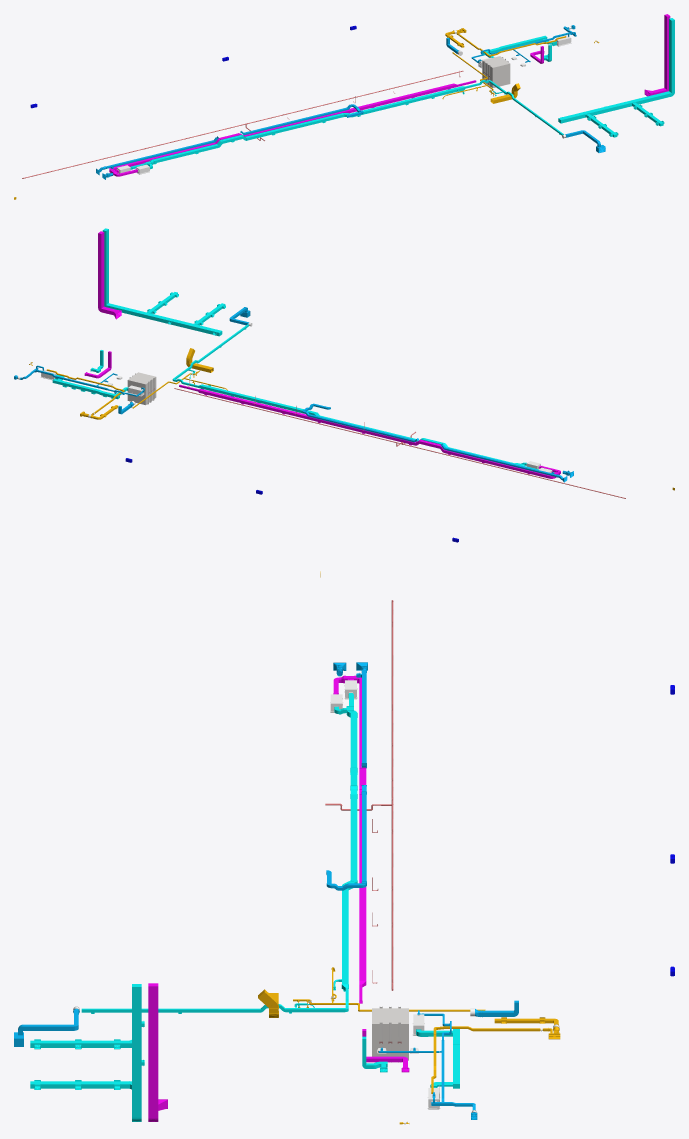
Rendered from detail-ducts-lite-1-gf.glb.
3 renders of one model, top to bottom at view 1: azimuth 30°, elevation 25°; view 2: azimuth 150°, elevation 25°; view 3: azimuth 270°, elevation 25°, orthographic. The views are drawn at different scales.
Bounding box in the file's own units: 134 × 18.88 × 69.41.
